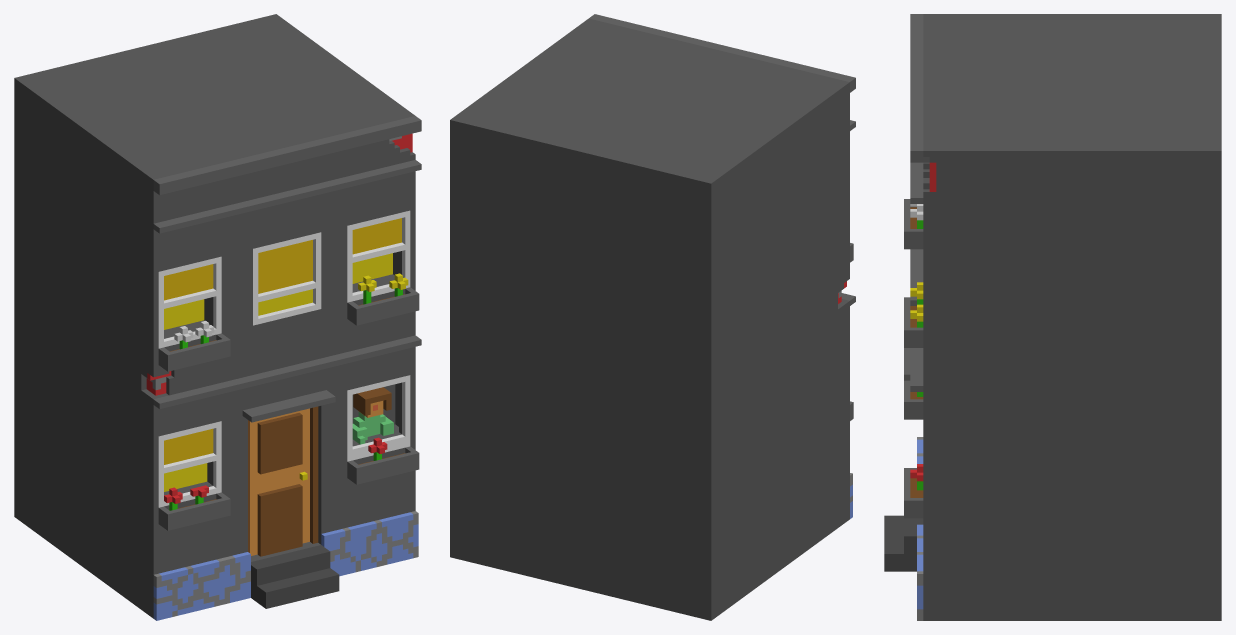
File: Casa.obj
The picture shows the model from 3 angles, left to right: view 1: azimuth 30°, elevation 25°; view 2: azimuth 150°, elevation 25°; view 3: azimuth 270°, elevation 25°; orthographic projection. The views are drawn at different scales.
Bounding box in the file's own units: 5 × 8 × 5.2.
1 material, 1 textured.
